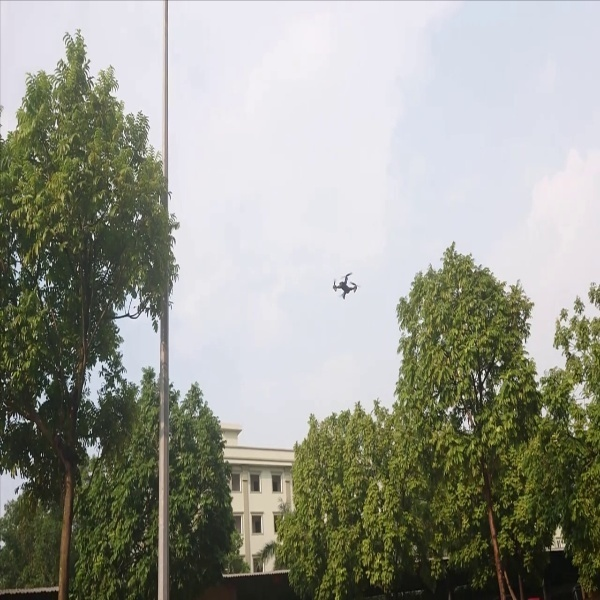drone: (328, 269, 365, 307)
